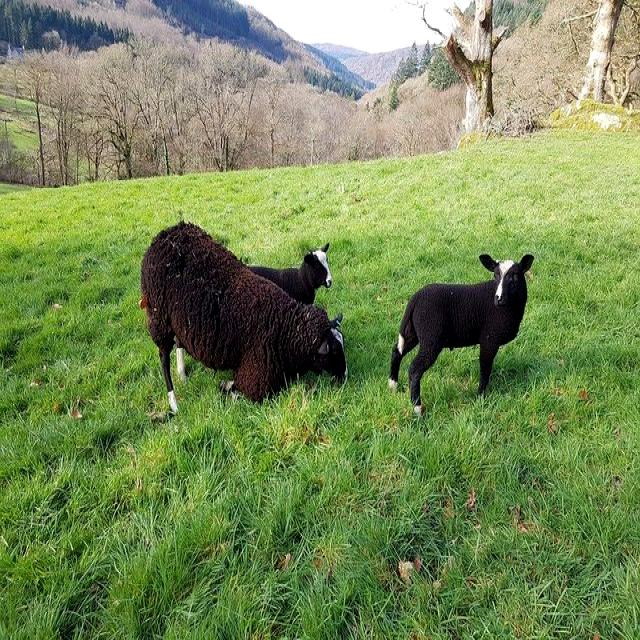sheep: (141, 221, 351, 415), (388, 254, 533, 415)
